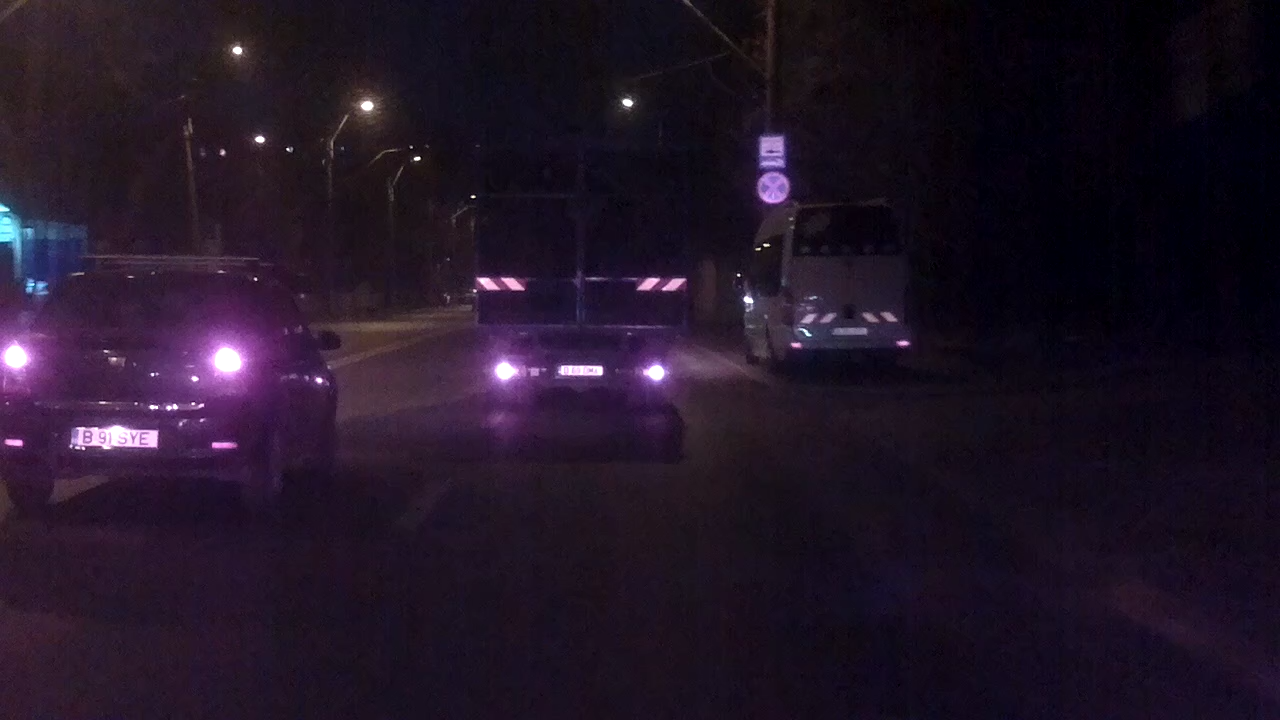license-plate: (68, 424, 160, 449)
